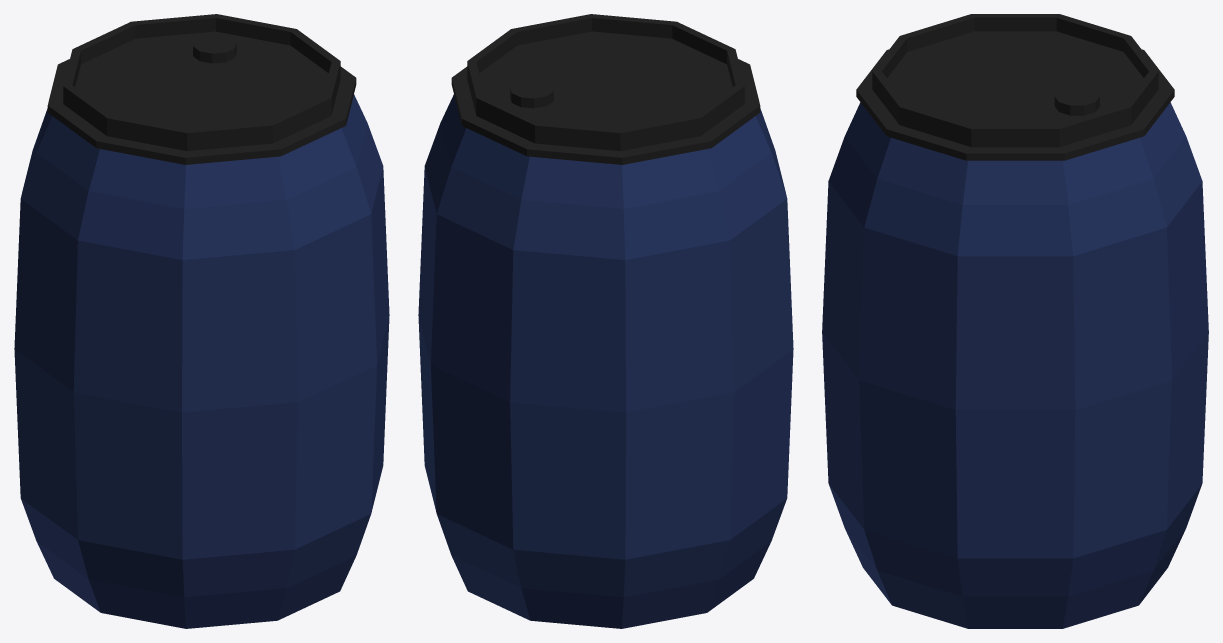
Rendered from LP__Barrel _02.fbx.
3 views of the same model, side by side, from view 1: azimuth 30°, elevation 25°; view 2: azimuth 150°, elevation 25°; view 3: azimuth 270°, elevation 25° (orthographic).
Visible parts, largest first — view 1: LP__Barrel _02; view 2: LP__Barrel _02; view 3: LP__Barrel _02.
Boxes of the visible parts, left/top/right/bottom form: LP__Barrel _02: left=14, top=14, right=389, bottom=628; LP__Barrel _02: left=418, top=14, right=793, bottom=628; LP__Barrel _02: left=822, top=14, right=1208, bottom=628.
Bounding box in the file's own units: 0.7204 × 1.07 × 0.7575.
